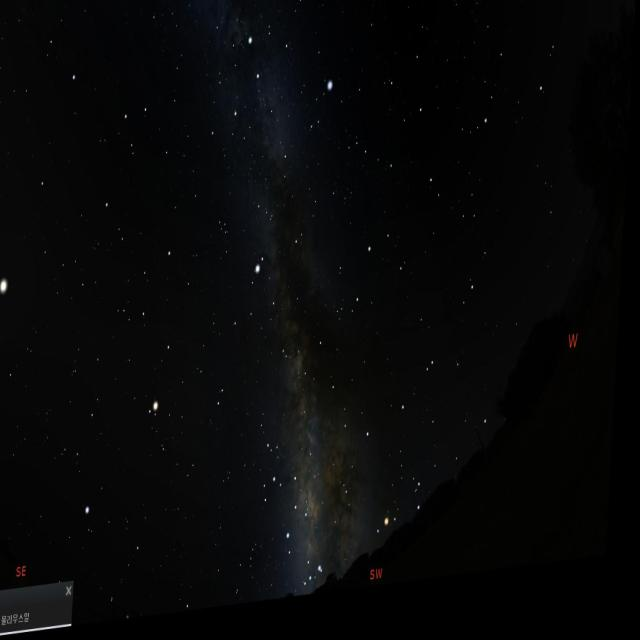aquila: (230, 257, 321, 397)
cygnus: (224, 31, 298, 203)
lyra: (301, 69, 340, 160)
sagittarius: (262, 462, 321, 574)
